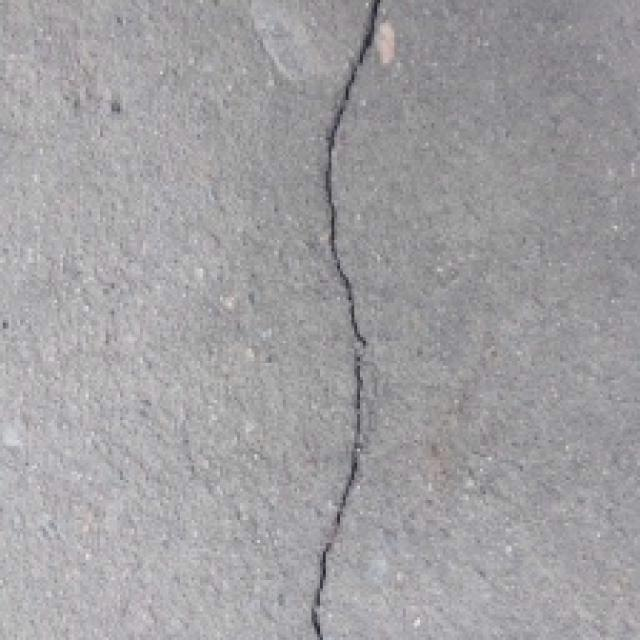SurfaceCrack: (276, 2, 410, 640)
